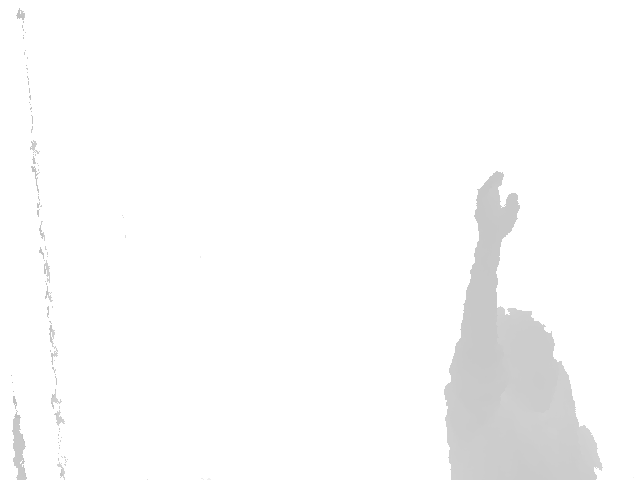hand: (473, 170, 521, 242)
head: (476, 309, 560, 416)
person: (443, 170, 605, 480)
